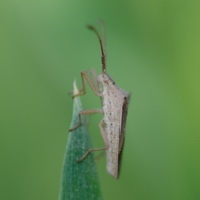insect: (69, 25, 128, 177)
